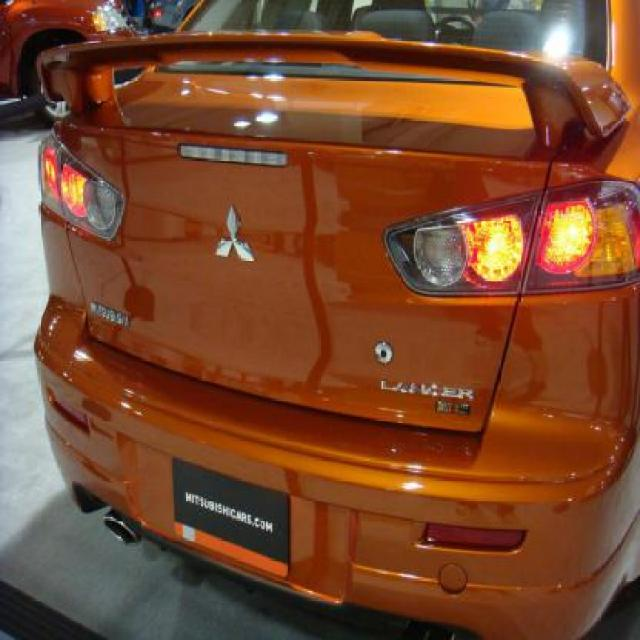License-Plates: (173, 456, 290, 564)
